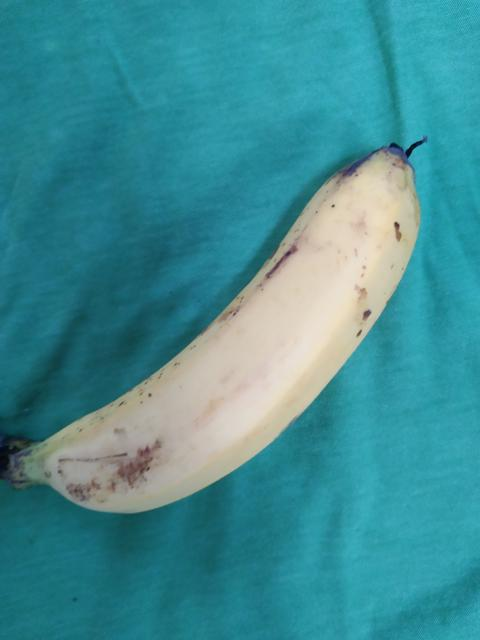ripe: (39, 131, 425, 526)
